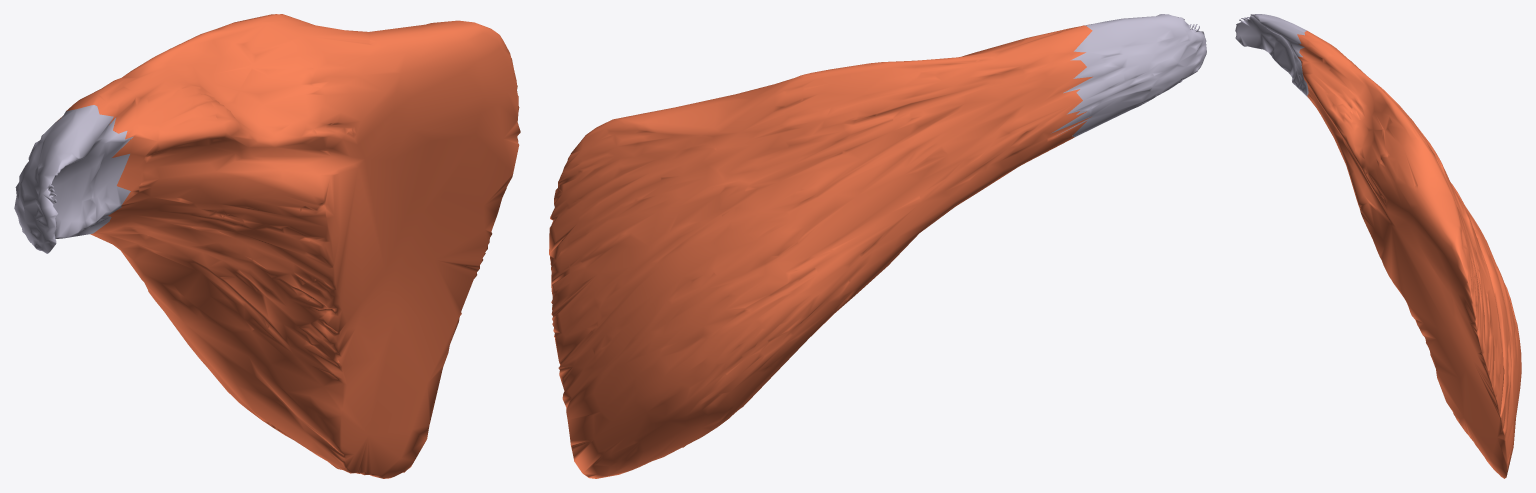
File: Infraspinatus_muscle.r_Generated_Mesh_From_X3D.462.glb
The picture shows the model from 3 angles, left to right: view 1: azimuth 30°, elevation 25°; view 2: azimuth 150°, elevation 25°; view 3: azimuth 270°, elevation 25°; orthographic projection. The views are drawn at different scales.
Visible parts, largest first — view 1: Infraspinatus_muscle.r_Generated_Mesh_From_X3D.462; view 2: Infraspinatus_muscle.r_Generated_Mesh_From_X3D.462; view 3: Infraspinatus_muscle.r_Generated_Mesh_From_X3D.462.
Boxes of the visible parts, box(x1,y1,x2,y2) form: Infraspinatus_muscle.r_Generated_Mesh_From_X3D.462: box(14, 14, 520, 478); Infraspinatus_muscle.r_Generated_Mesh_From_X3D.462: box(549, 14, 1206, 478); Infraspinatus_muscle.r_Generated_Mesh_From_X3D.462: box(1235, 14, 1521, 478).
Bounding box in the file's own units: 0.1325 × 0.1136 × 0.0918.
